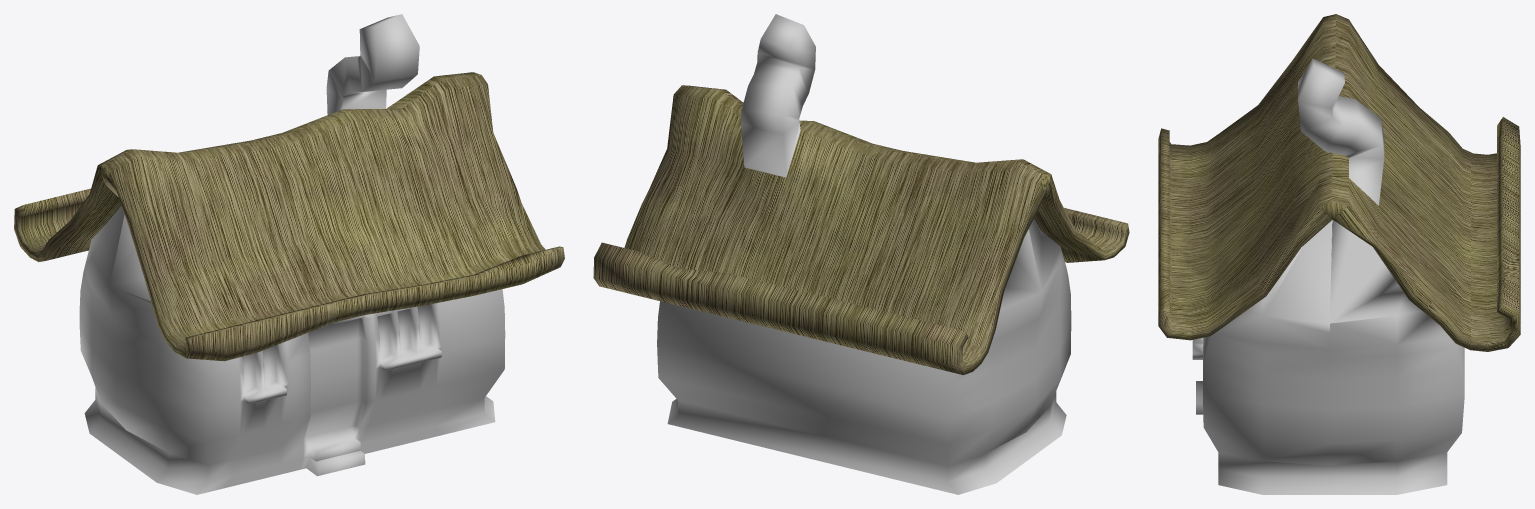
The model's file is house3.fbx.
3 views of the same model, side by side, from view 1: azimuth 30°, elevation 25°; view 2: azimuth 150°, elevation 25°; view 3: azimuth 270°, elevation 25° (orthographic). The views are drawn at different scales.
Visible parts, largest first — view 1: U3DMesh; view 2: U3DMesh; view 3: U3DMesh.
Part boxes in pixels (x1,y1,x2,y2): U3DMesh: [14, 14, 564, 494]; U3DMesh: [593, 14, 1129, 494]; U3DMesh: [1158, 14, 1520, 494].
Bounding box in the file's own units: 11.62 × 11.29 × 9.4.
